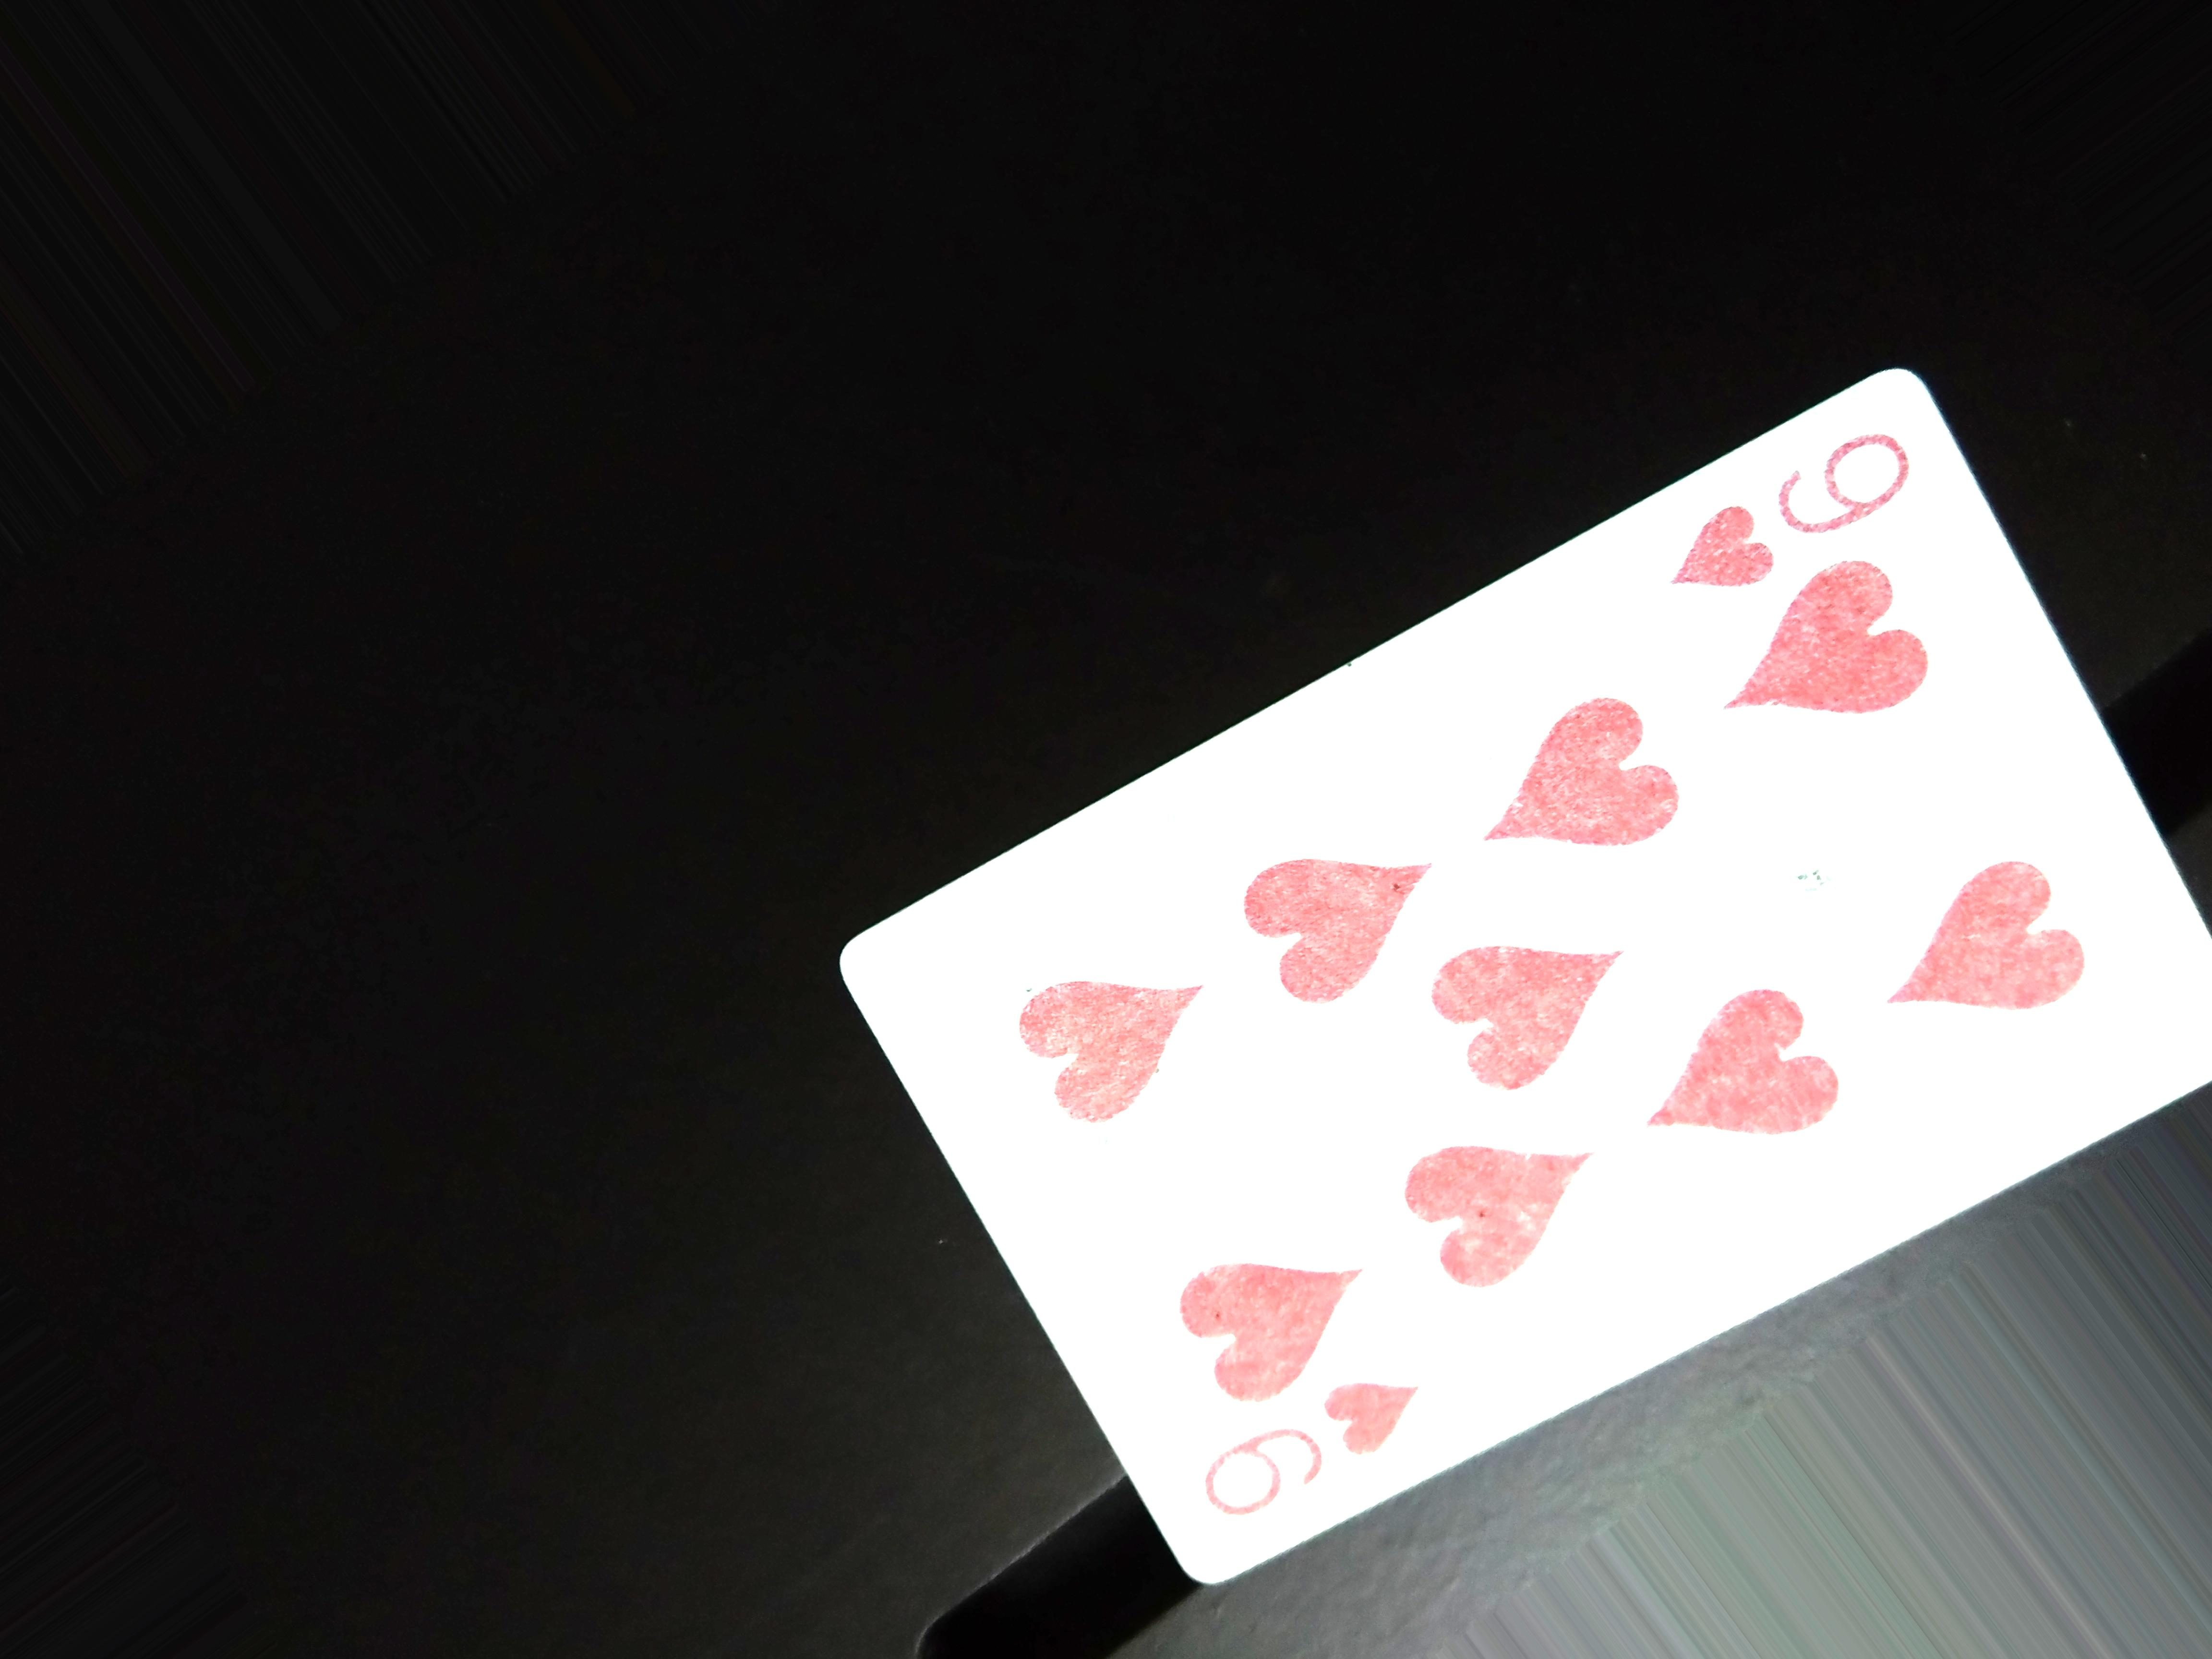9H: (1663, 416, 1946, 605)
